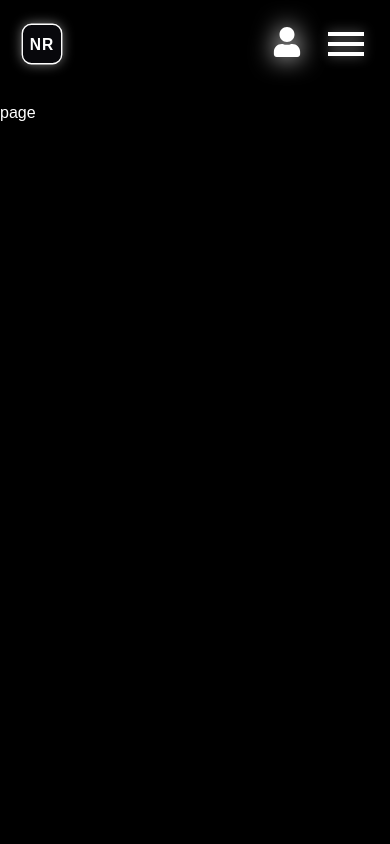
Scenario: Header mobile menu › closes after navigating through a link
The width and height of the screenshot is (390, 844).
Click the button named "меню" at (346, 44), box [322,20,370,68]
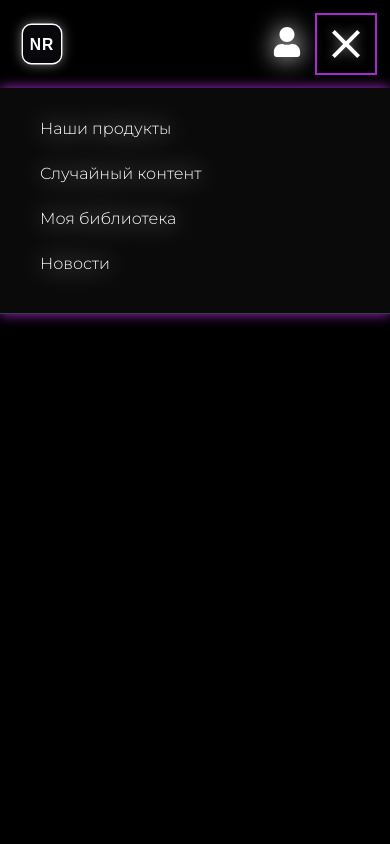
Click the link "Моя библиотека" at (108, 218), box [40,209,176,228]
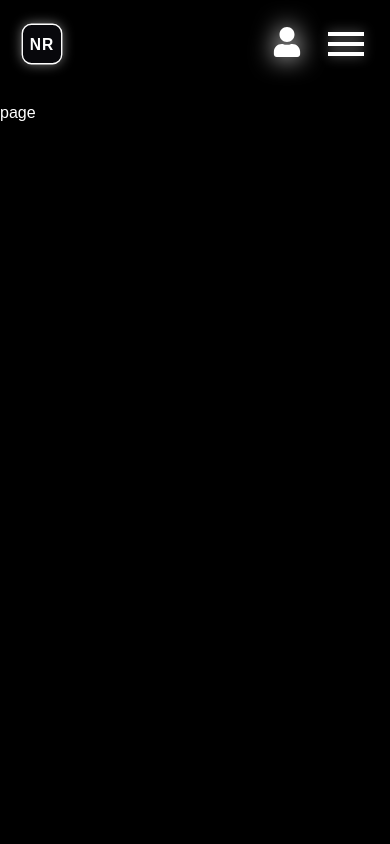
Check: the button named "меню" is collapsed, box [322,20,370,68]
